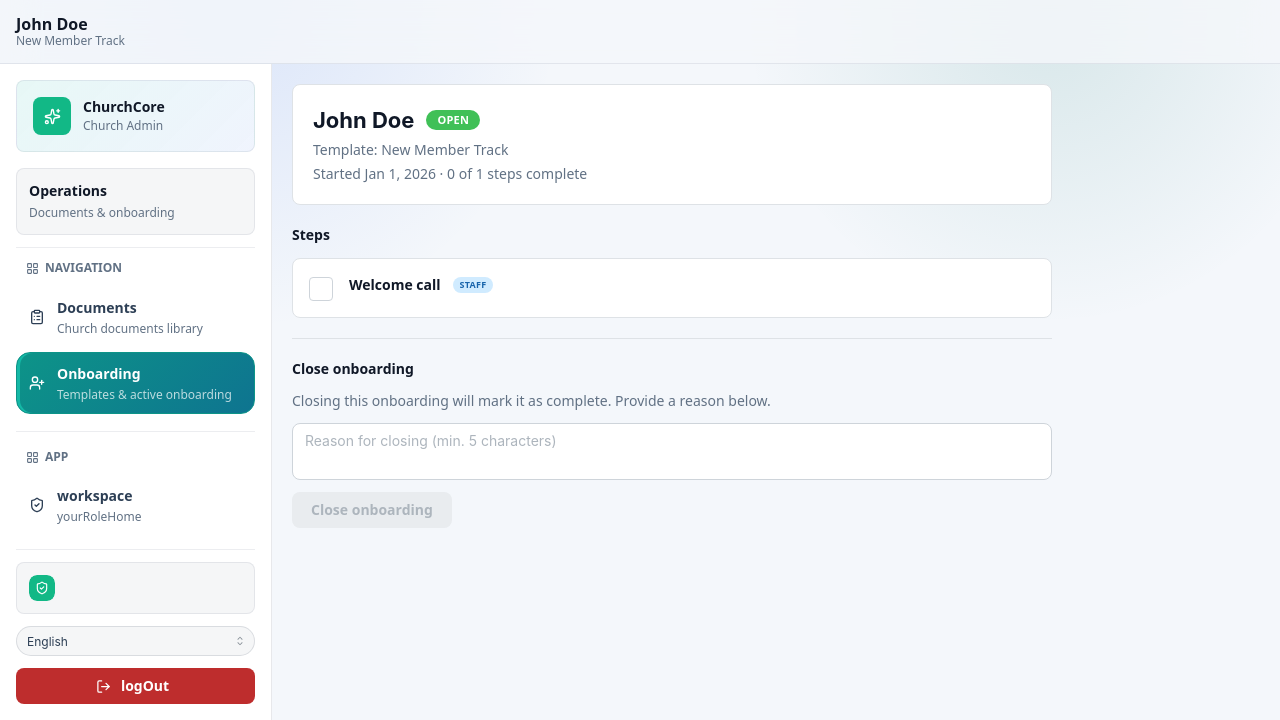
Test: OperationsInstanceDetailClient — complete step (AC17) › shows step error alert when action returns ok: false (AC17)
Click the checkbox named "complete step: welcome call".
click(321, 289)  # box 309,277 -> 333,301
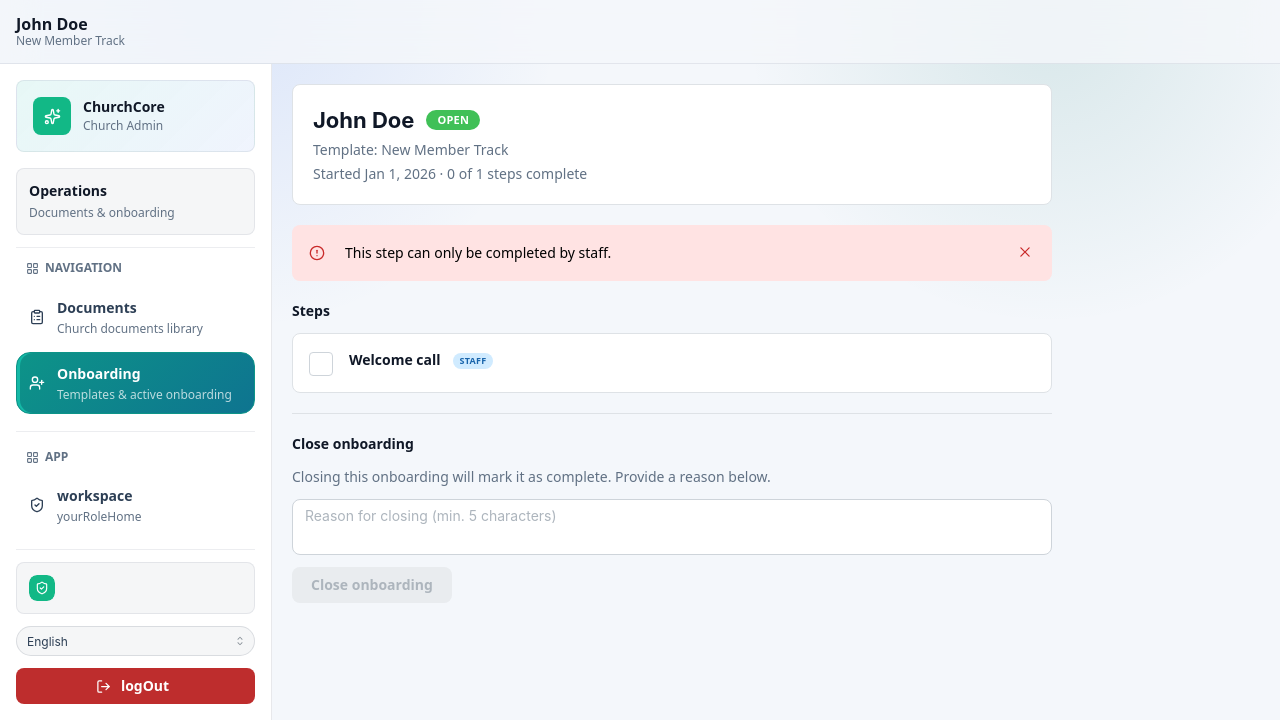
Expected: the text "This step can only be completed by staff." is shown, 345,243 -> 611,262
